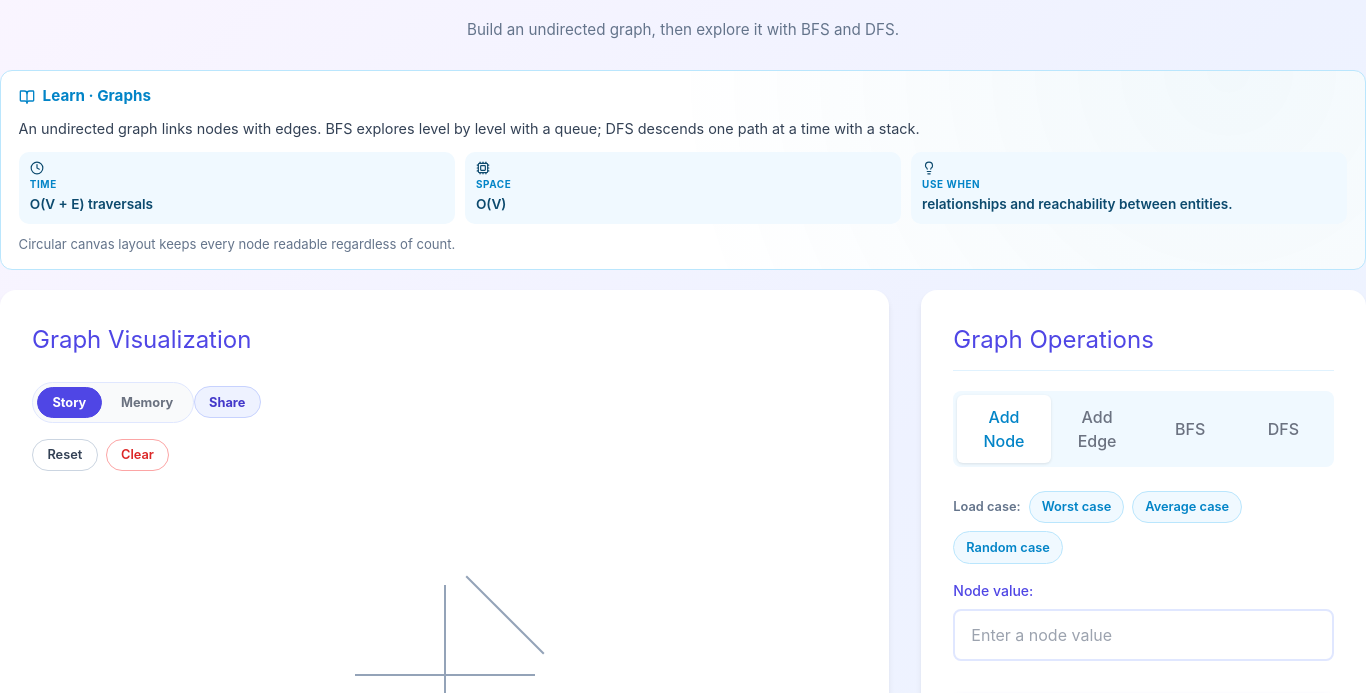
graph operations › adding a duplicate node is refused with a guided error
This screenshot has width=1366, height=693.
In the number field with placeholder "Enter a node value": (1144, 635) [953, 609, 1334, 661], type "2"
(page scrolled)
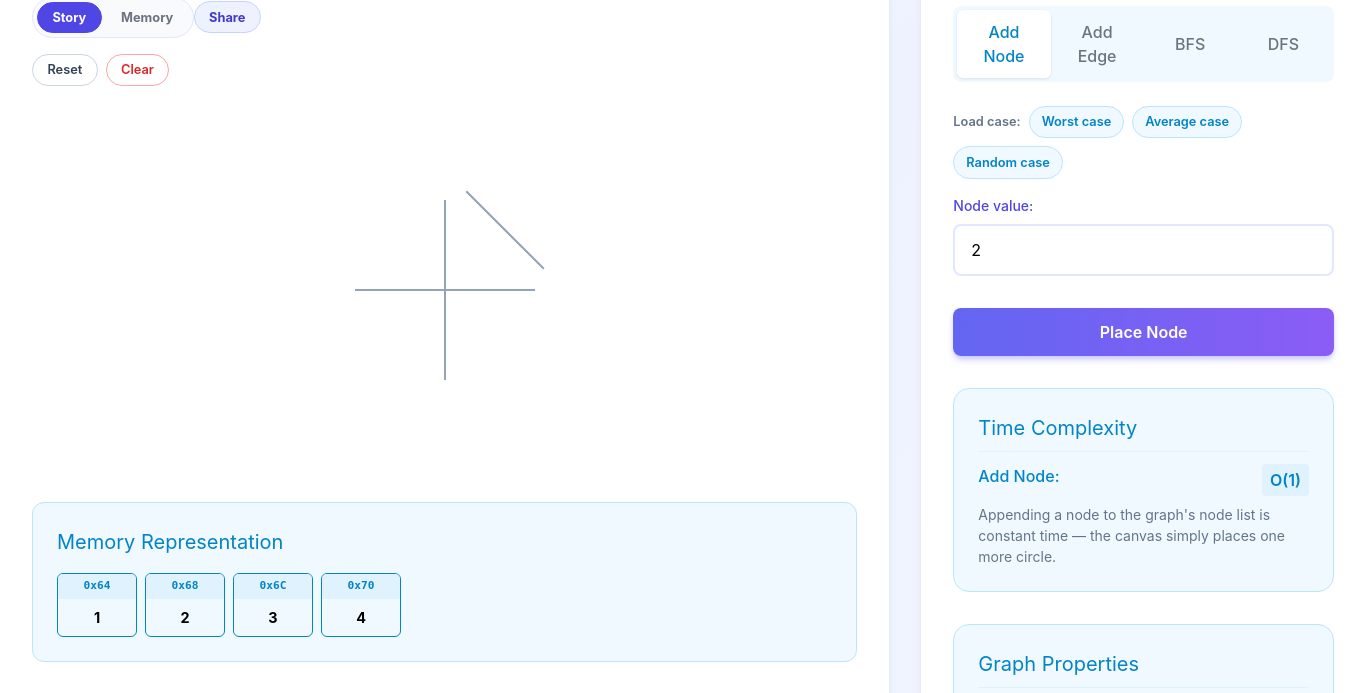
Click the button "Place Node": (1144, 332) [953, 308, 1334, 356]
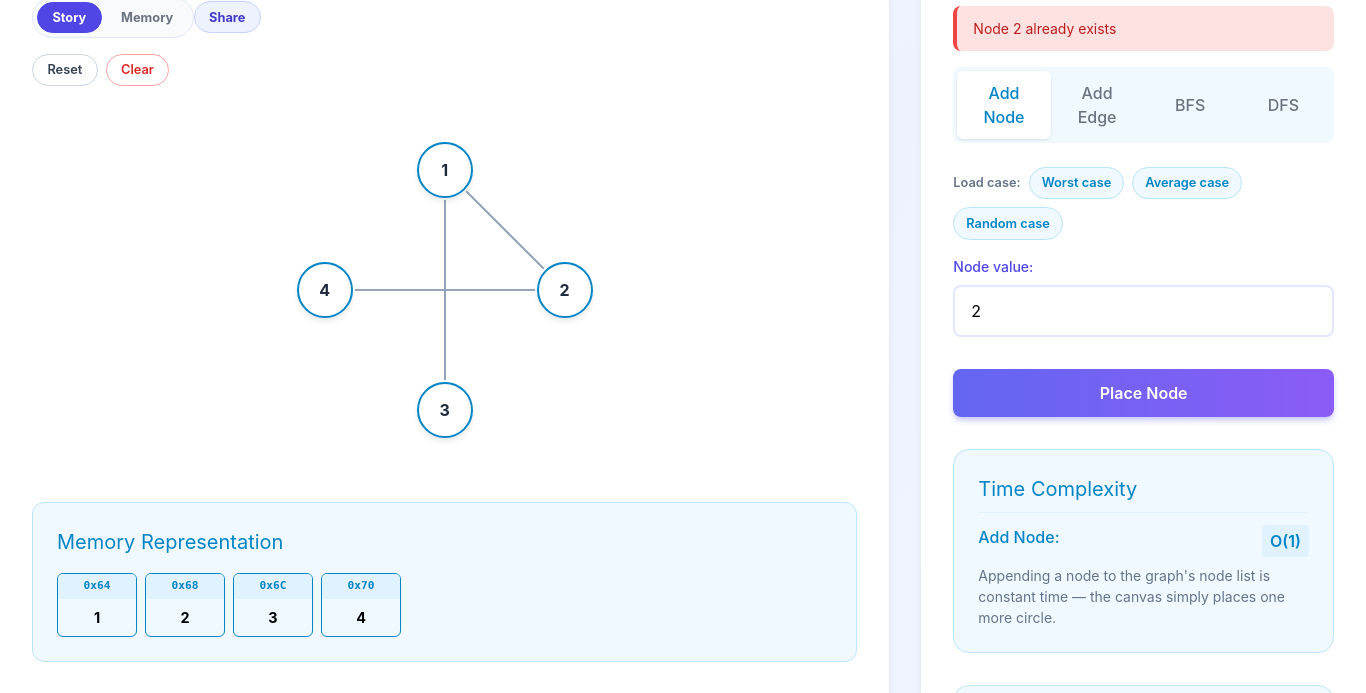
expect the text "Node 2 already exists" is shown: met, box [953, 6, 1334, 51]
